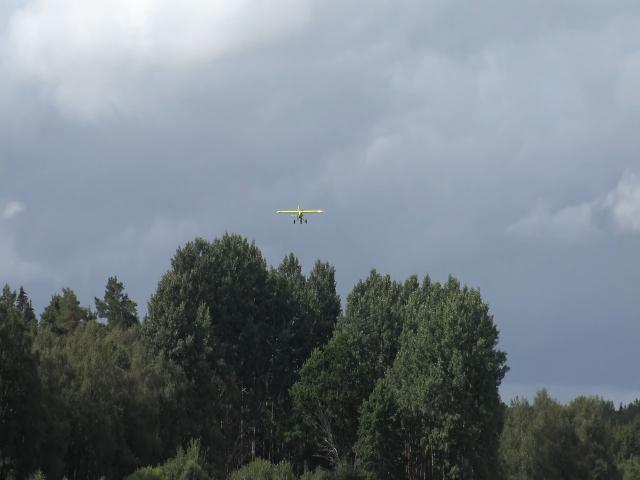plane: (277, 205, 323, 223)
